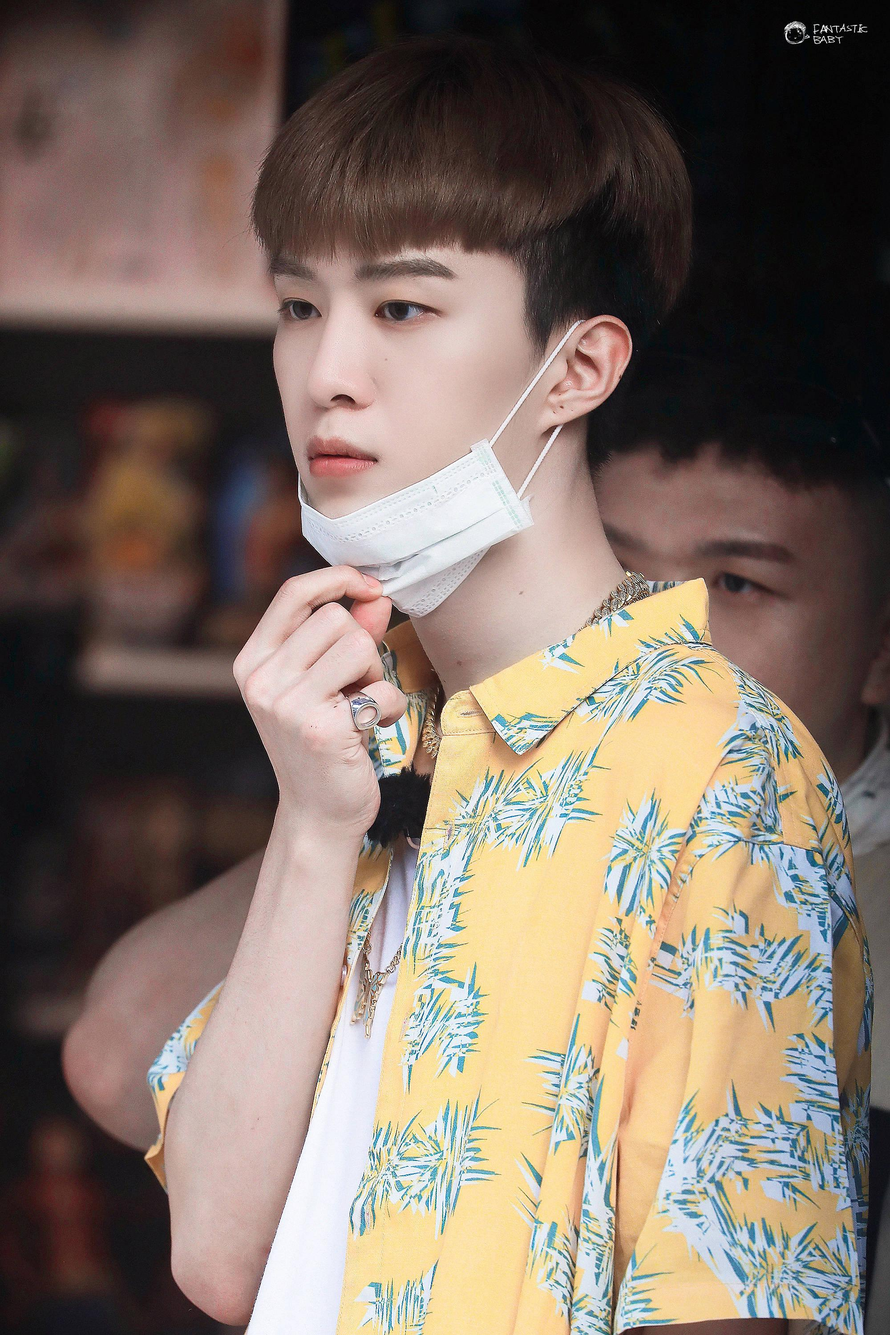NONE: (557, 489, 817, 788)
WRONG: (267, 203, 534, 567)
